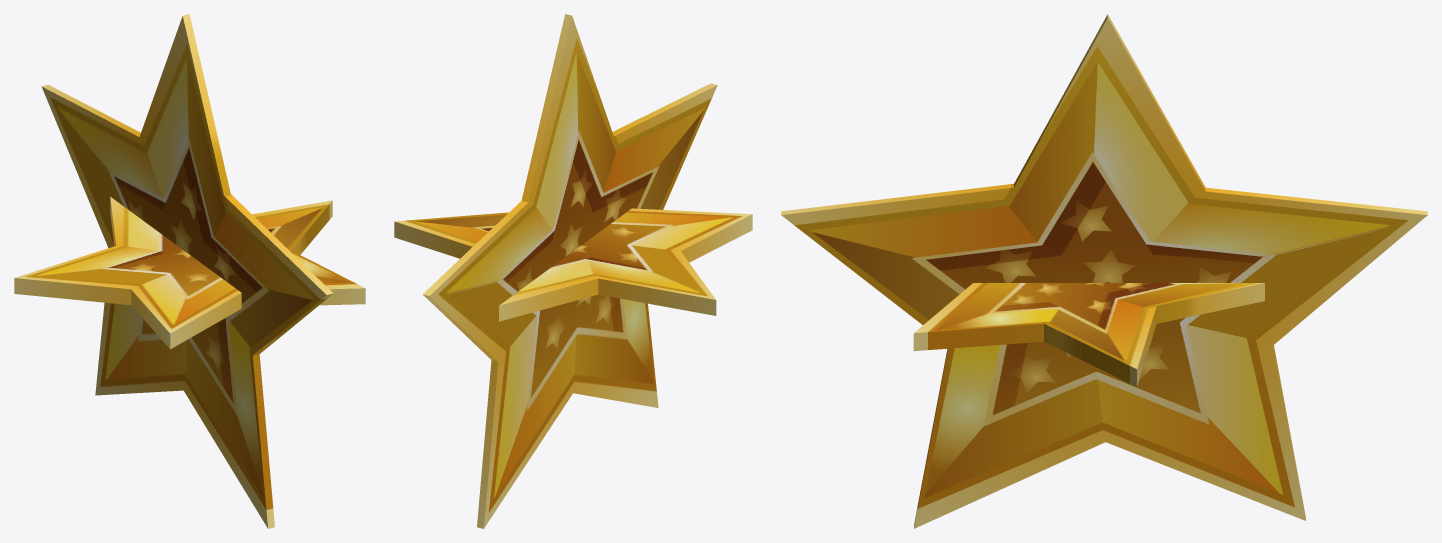
File: star on mushroom.FBX
The picture shows the model from 3 angles, left to right: view 1: azimuth 30°, elevation 25°; view 2: azimuth 150°, elevation 25°; view 3: azimuth 270°, elevation 25°; orthographic projection. The views are drawn at different scales.
Parts seen in each view (by area): view 1: Line001; view 2: Line001; view 3: Line001.
Part boxes in pixels (box(x1,y1,x2,y2)): Line001: box(14, 14, 365, 528); Line001: box(394, 14, 752, 528); Line001: box(781, 14, 1427, 528).
Size of the model in its own units: 129 by 174 by 200.
Materials: 1 (1 with a texture image).
